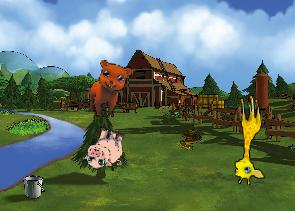bear: (87, 59, 133, 120)
giraffe: (228, 94, 265, 185)
pig: (81, 123, 129, 173)
